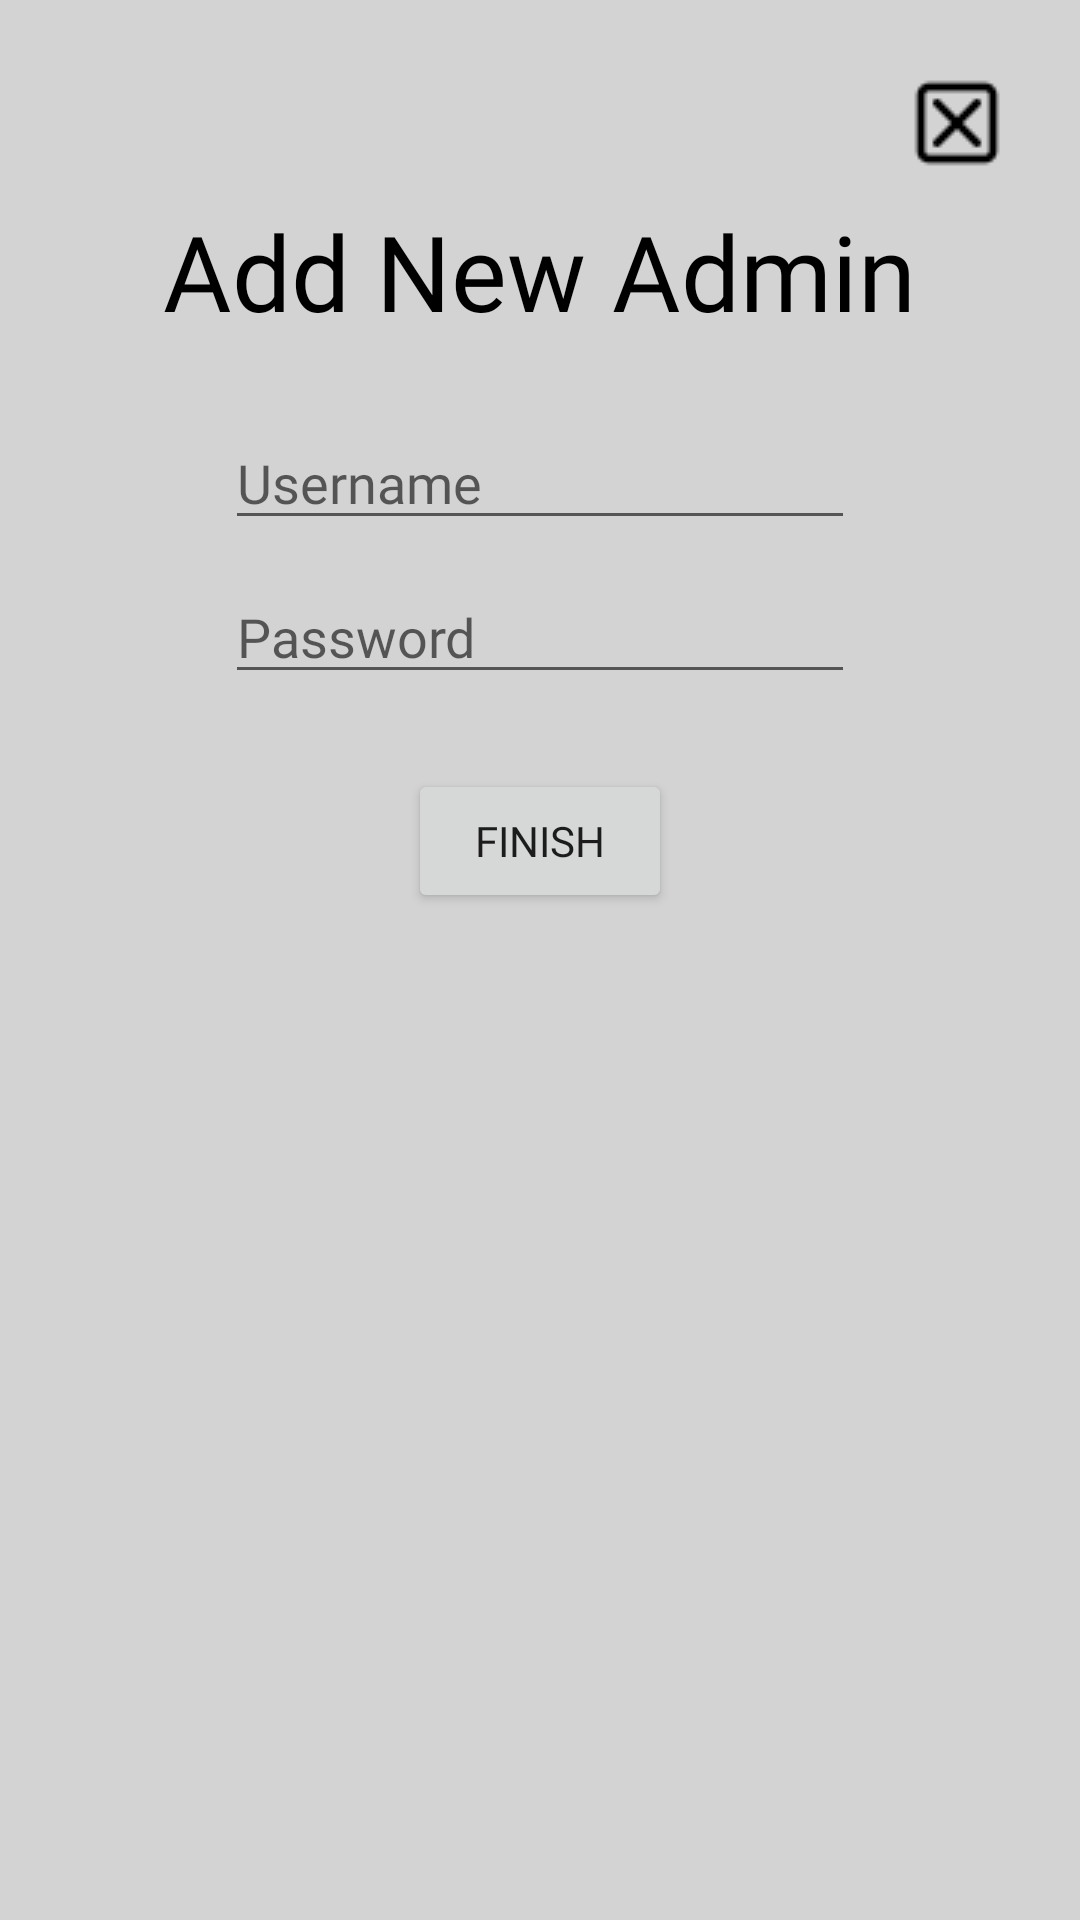

Where icons sit on this 1080 x 1920 app screen, as box=[x1, y1, x2, y2]:
close window: box=[915, 81, 999, 165]
